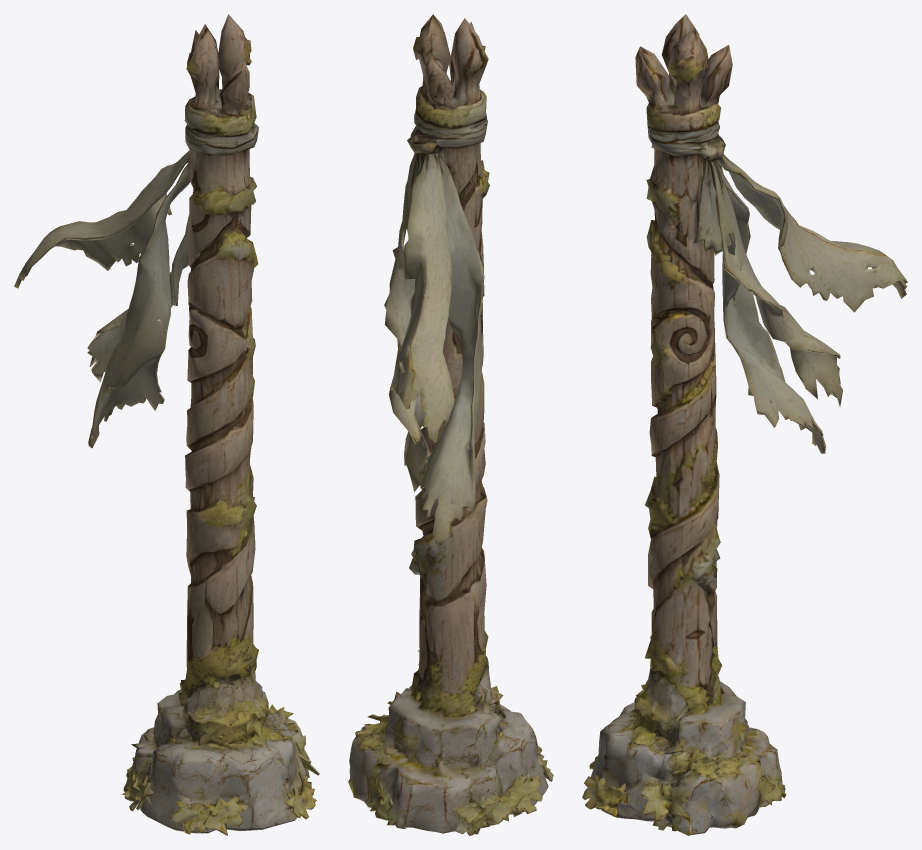
Rendered from raw.glb.
3 views of the same model, side by side, from view 1: azimuth 30°, elevation 25°; view 2: azimuth 150°, elevation 25°; view 3: azimuth 270°, elevation 25° (orthographic).
Visible parts, largest first — view 1: tripo_node_c86489e3-d3ca-4746-9a2d-1100ee000015; view 2: tripo_node_c86489e3-d3ca-4746-9a2d-1100ee000015; view 3: tripo_node_c86489e3-d3ca-4746-9a2d-1100ee000015.
Part boxes in pixels (left/top/right/bottom): tripo_node_c86489e3-d3ca-4746-9a2d-1100ee000015: left=14, top=14, right=319, bottom=835; tripo_node_c86489e3-d3ca-4746-9a2d-1100ee000015: left=348, top=14, right=553, bottom=835; tripo_node_c86489e3-d3ca-4746-9a2d-1100ee000015: left=582, top=14, right=907, bottom=835.
Size of the model in its own units: 0.2522 by 1 by 0.381.
1 material, 1 textured.
